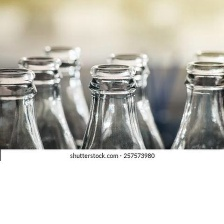bottle: (78, 62, 151, 150), (33, 42, 92, 150), (103, 49, 166, 150), (15, 52, 79, 150), (164, 57, 223, 151), (0, 63, 47, 149)
